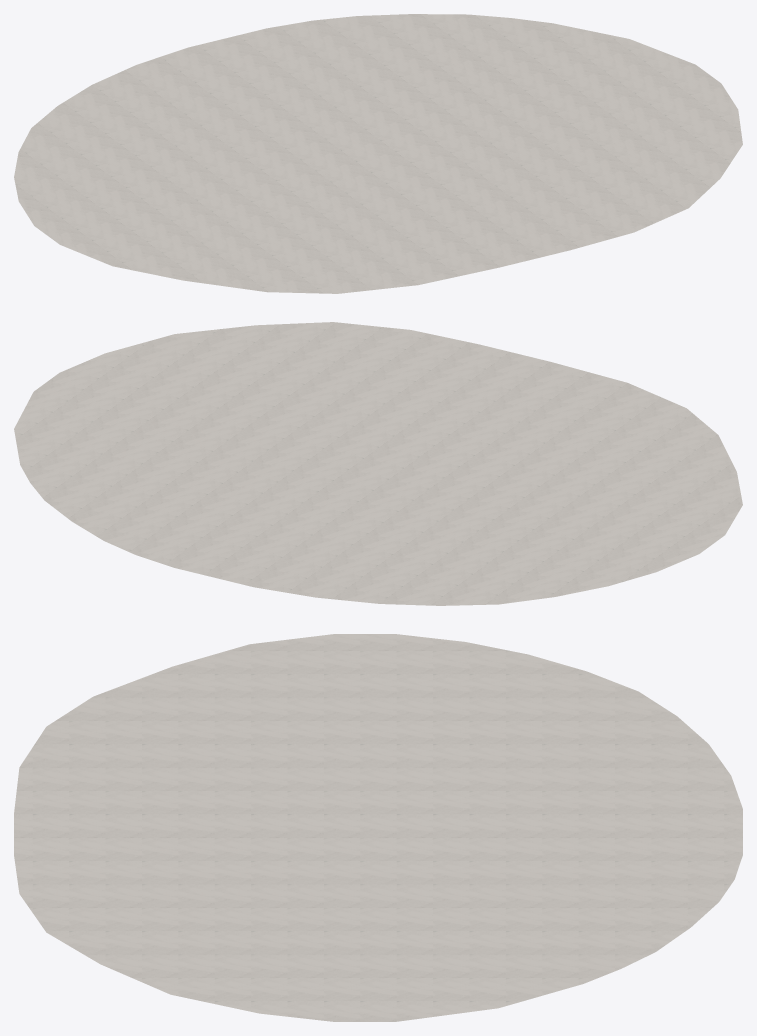
Rendered from CurbV3.gltf.
3 renders of one model, top to bottom at view 1: azimuth 30°, elevation 25°; view 2: azimuth 150°, elevation 25°; view 3: azimuth 270°, elevation 25°, orthographic. The views are drawn at different scales.
Parts seen in each view (by area): view 1: Plane; view 2: Plane; view 3: Plane.
Part boxes in pixels (x1,y1,x2,y2): Plane: (14,14,742,293); Plane: (14,322,742,605); Plane: (14,634,742,1021).
Size of the model in its own units: 29.75 by 8.09e-07 by 23.63.
Materials: 1 (1 with a texture image).
